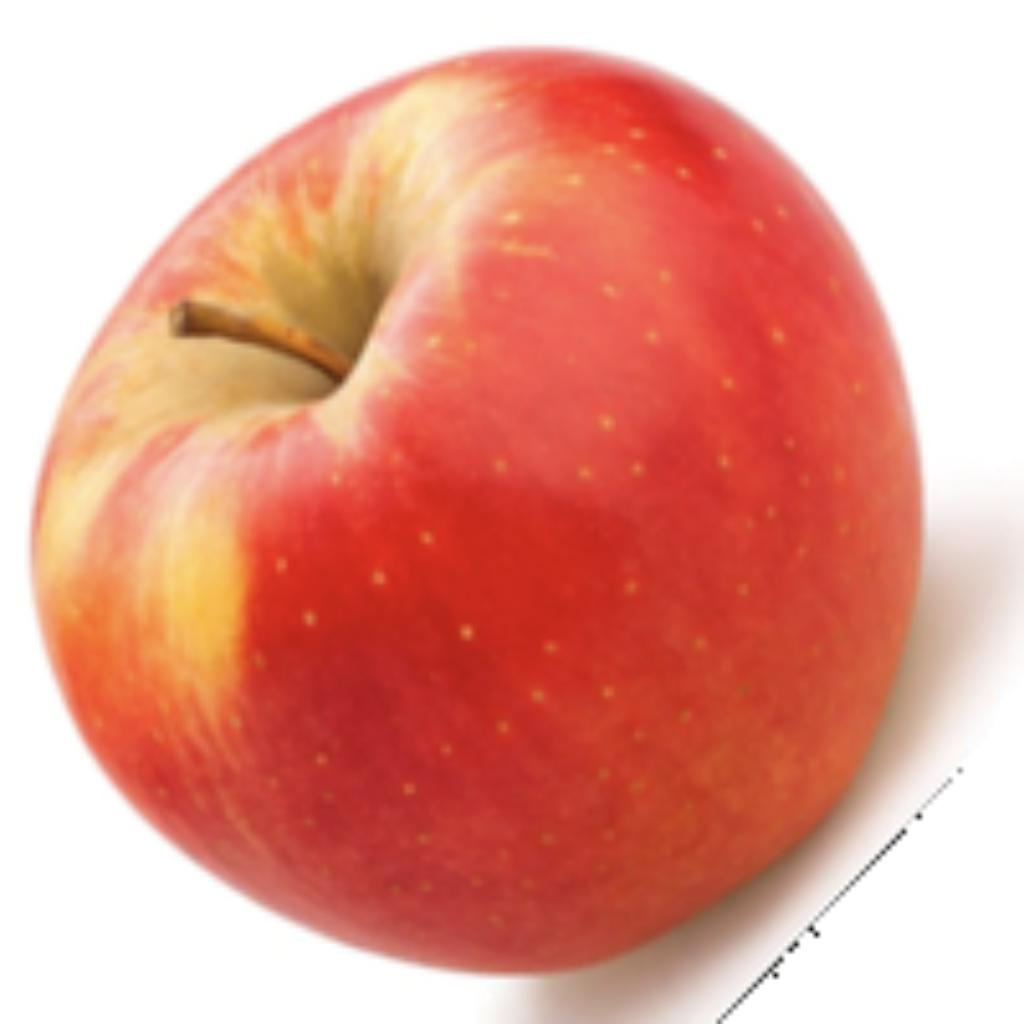apple: (20, 36, 1014, 1019)
